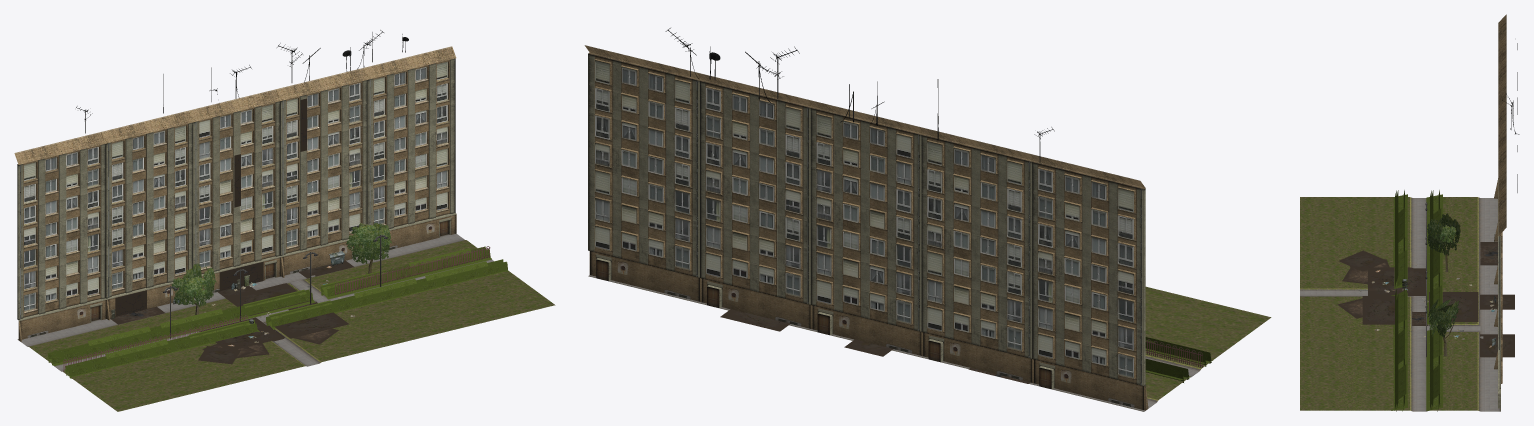
File: 00_01_outside_simon_apart.dae
The picture shows the model from 3 angles, left to right: view 1: azimuth 30°, elevation 25°; view 2: azimuth 150°, elevation 25°; view 3: azimuth 270°, elevation 25°; orthographic projection. The views are drawn at different scales.
Visible parts, largest first — view 1: polySurface1, polySurface4, polySurface3, polySurface9, polySurface5, polySurface2, polySurface8; view 2: polySurface1, polySurface4, polySurface2, polySurface3, polySurface9, polySurface5; view 3: polySurface4, polySurface5, polySurface9, polySurface3, polySurface1, polySurface8, polySurface2.
Boxes of the visible parts, bbox=[...] form: polySurface1: bbox=[14, 46, 456, 341]; polySurface4: bbox=[29, 240, 555, 411]; polySurface3: bbox=[46, 246, 508, 378]; polySurface9: bbox=[110, 98, 353, 364]; polySurface5: bbox=[17, 233, 493, 371]; polySurface2: bbox=[63, 30, 490, 371]; polySurface8: bbox=[171, 223, 391, 314]; polySurface1: bbox=[584, 45, 1148, 410]; polySurface4: bbox=[1145, 286, 1271, 399]; polySurface2: bbox=[665, 28, 1202, 367]; polySurface3: bbox=[1145, 337, 1212, 382]; polySurface9: bbox=[720, 309, 1030, 383]; polySurface5: bbox=[588, 275, 1201, 411]; polySurface4: bbox=[1300, 197, 1477, 410]; polySurface5: bbox=[1300, 197, 1500, 411]; polySurface9: bbox=[1337, 242, 1514, 357]; polySurface3: bbox=[1391, 190, 1442, 411]; polySurface1: bbox=[1494, 14, 1506, 408]; polySurface8: bbox=[1427, 213, 1460, 356]; polySurface2: bbox=[1355, 43, 1519, 347].
Size of the model in its own units: 75.5 by 32.85 by 38.07.
Materials: 8 (8 with a texture image).
